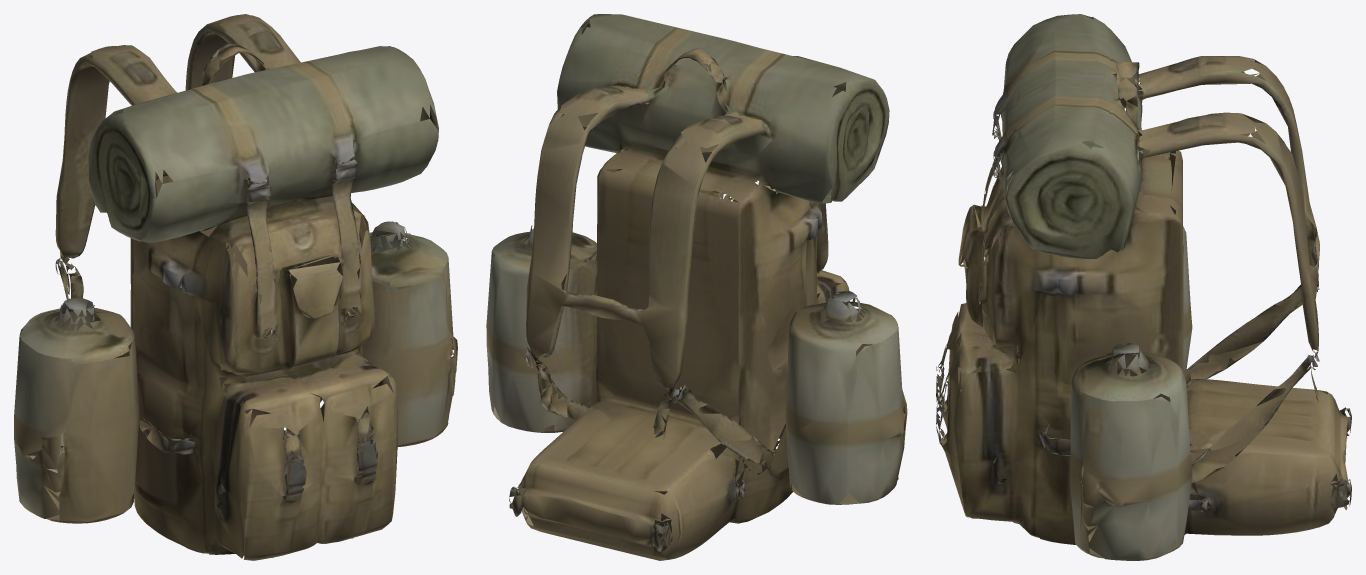
The model's file is backpack.glb.
3 views of the same model, side by side, from view 1: azimuth 30°, elevation 25°; view 2: azimuth 150°, elevation 25°; view 3: azimuth 270°, elevation 25° (orthographic). The views are drawn at different scales.
Visible parts, largest first — view 1: model; view 2: model; view 3: model.
Part boxes in pixels (box(x1,y1,x2,y2)): model: box(14, 14, 457, 560); model: box(486, 14, 907, 560); model: box(936, 14, 1351, 560).
Bounding box in the file's own units: 0.5828 × 0.5981 × 0.5022.
1 material, 1 textured.
